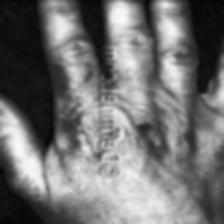Toxin: (134, 117, 152, 134)
